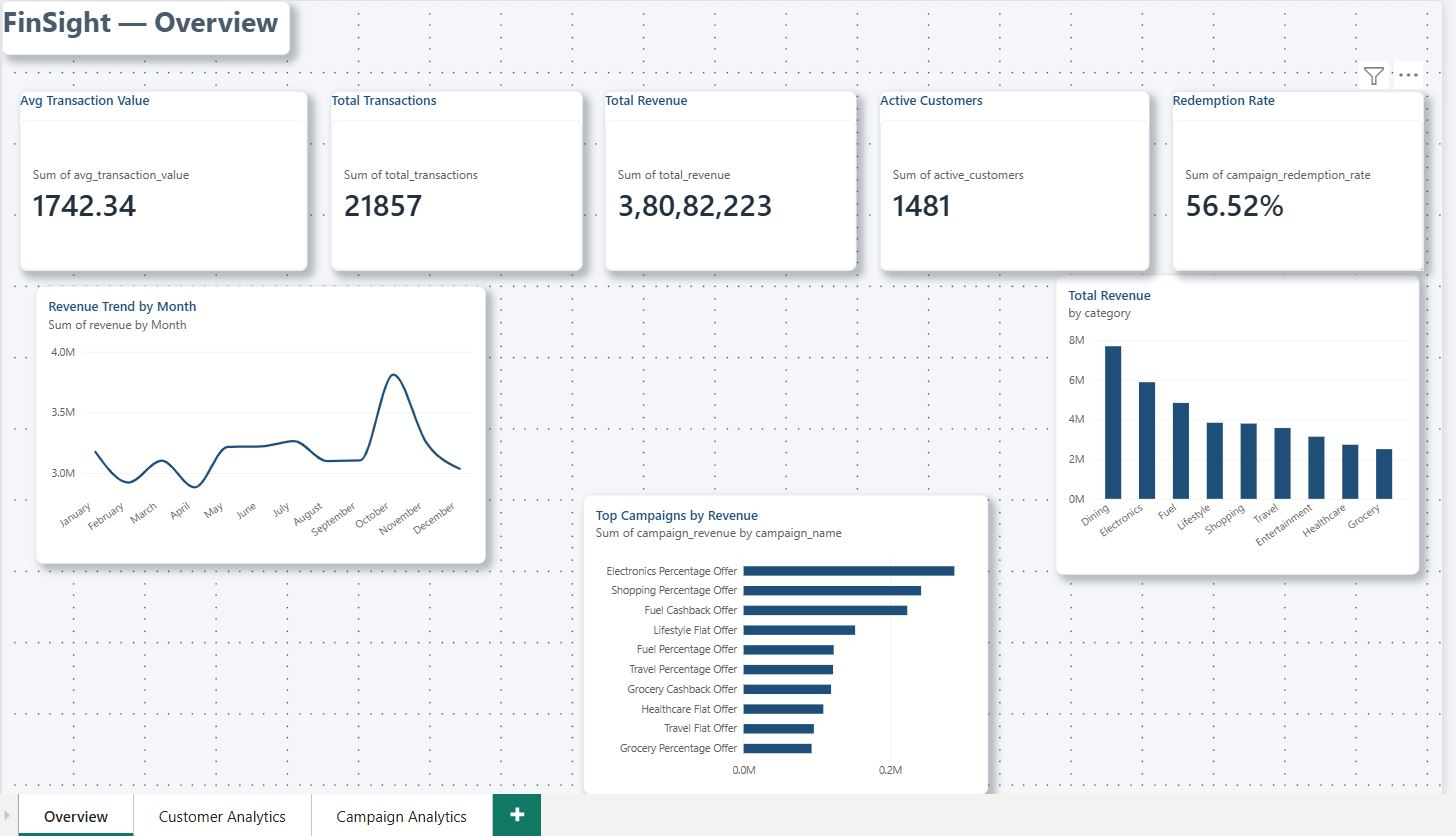

Layout of this report page (visuals, bound fields, positions):
{"tool":"powerbi","page":{"name":"Overview","canvas":[1920,1080],"ordinal":0},"visuals":[{"type":"clusteredColumnChart","fields":{"Category":["fact_transactions.category"],"Y":["fact_transactions.Total Revenue"]},"box":[1405,365,485,400],"z":0},{"type":"clusteredBarChart","title":"Top Campaigns by Revenue","fields":{"Category":["campaign_performance.campaign_name"],"Y":["Sum(campaign_performance.campaign_revenue)"]},"box":[775,657.5,540,400],"z":1000},{"type":"cardVisual","title":"Total Revenue","fields":{"Data":["Sum(kpi_summary.total_revenue)"]},"box":[804,120,336,240],"z":2000},{"type":"cardVisual","title":"Total Transactions","fields":{"Data":["Sum(kpi_summary.total_transactions)"]},"box":[438,120,336,240],"z":3000},{"type":"cardVisual","title":"Active Customers","fields":{"Data":["Sum(kpi_summary.active_customers)"]},"box":[1170,120,360,240],"z":4000},{"type":"cardVisual","title":"Redemption Rate","fields":{"Data":["Sum(kpi_summary.campaign_redemption_rate)"]},"box":[1560,120,336,240],"z":5000},{"type":"cardVisual","title":"Avg Transaction Value","fields":{"Data":["Sum(kpi_summary.avg_transaction_value)"]},"box":[24,120,384,240],"z":6000},{"type":"lineChart","title":"Revenue Trend by Month","fields":{"Category":["monthly_revenue.month.Variation.Date Hierarchy.Month"],"Y":["Sum(monthly_revenue.revenue)"]},"box":[45,380,600,370],"z":7000},{"type":"textbox","box":[0,0,384,72],"z":7001},{"type":"FlowVisual_C29F1DCC_81F5_4973_94AD_0517D44CC06A","box":[45,750,600,308],"z":7002}]}

Visuals, with their boxes in screenshot pixels (x1, y1, x2, y2):
clusteredColumnChart - fact_transactions.category x fact_transactions.Total Revenue: 1055, 273, 1417, 572
"Top Campaigns by Revenue" clusteredBarChart: 583, 492, 987, 791
"Total Revenue" cardVisual: 605, 90, 856, 269
"Total Transactions" cardVisual: 331, 90, 583, 269
"Active Customers" cardVisual: 879, 90, 1148, 269
"Redemption Rate" cardVisual: 1170, 90, 1422, 269
"Avg Transaction Value" cardVisual: 22, 90, 309, 269
"Revenue Trend by Month" lineChart: 37, 284, 486, 561
textbox: 4, 0, 291, 54
FlowVisual_C29F1DCC_81F5_4973_94AD_0517D44CC06A: 37, 561, 486, 791
